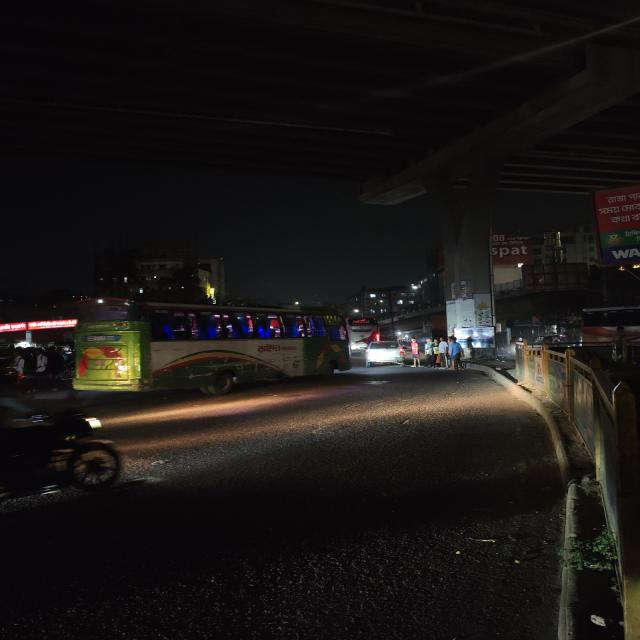bus: (63, 295, 350, 404), (351, 316, 380, 342)
car: (364, 339, 415, 367)
pedestrian: (443, 335, 464, 371)
